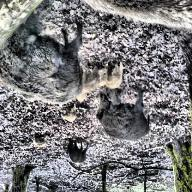boar: (89, 91, 165, 143)
